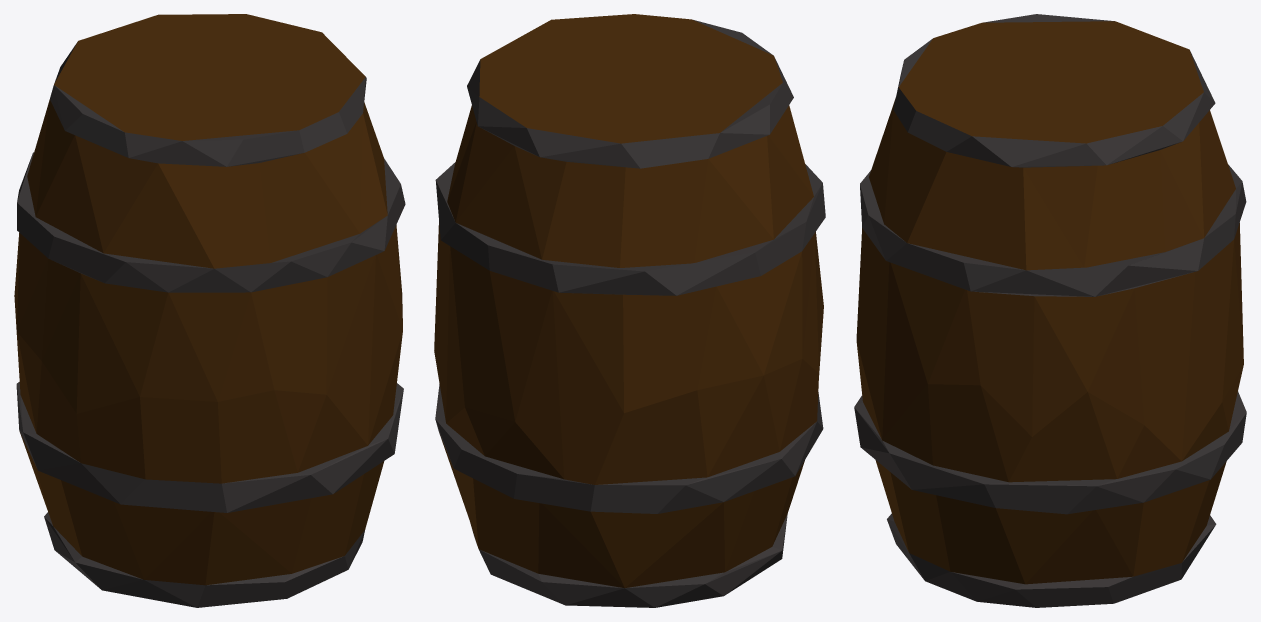
Rendered from Barrel_1.fbx.
The picture shows the model from 3 angles, left to right: view 1: azimuth 30°, elevation 25°; view 2: azimuth 150°, elevation 25°; view 3: azimuth 270°, elevation 25°; orthographic projection.
Parts seen in each view (by area): view 1: Barrel.011; view 2: Barrel.011; view 3: Barrel.011.
Part boxes in pixels (x1,y1,x2,y2): Barrel.011: [14, 14, 405, 607]; Barrel.011: [434, 14, 825, 607]; Barrel.011: [854, 14, 1246, 607].
Size of the model in its own units: 189 by 250 by 191.
